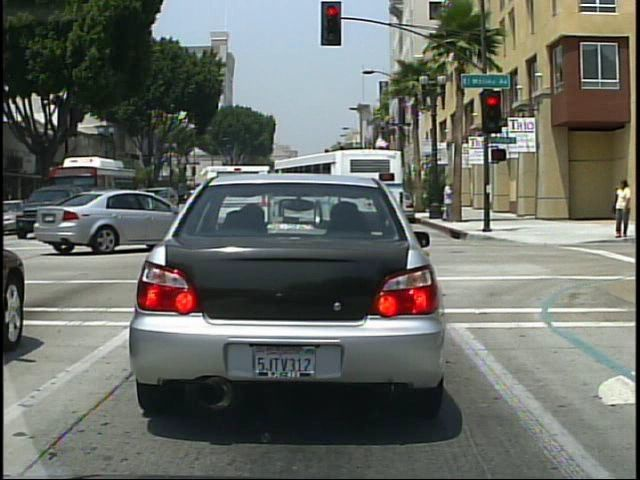person: (610, 177, 634, 240), (442, 179, 456, 224)
